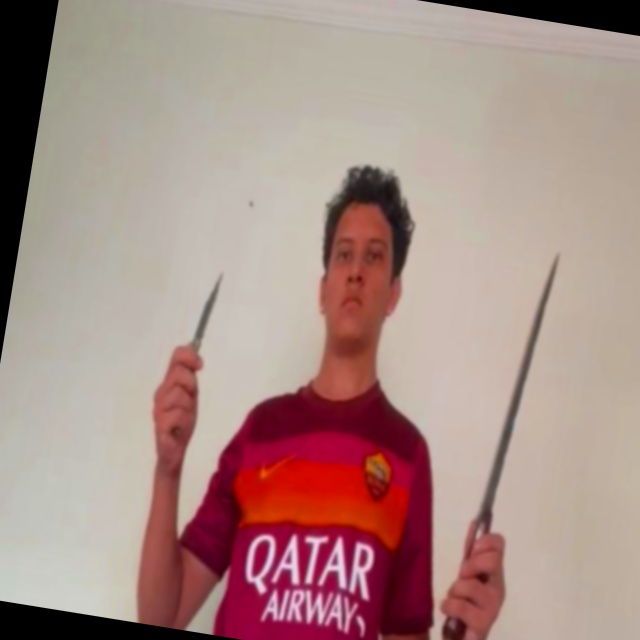Sharp-Object: (481, 248, 560, 522), (193, 269, 224, 347)
